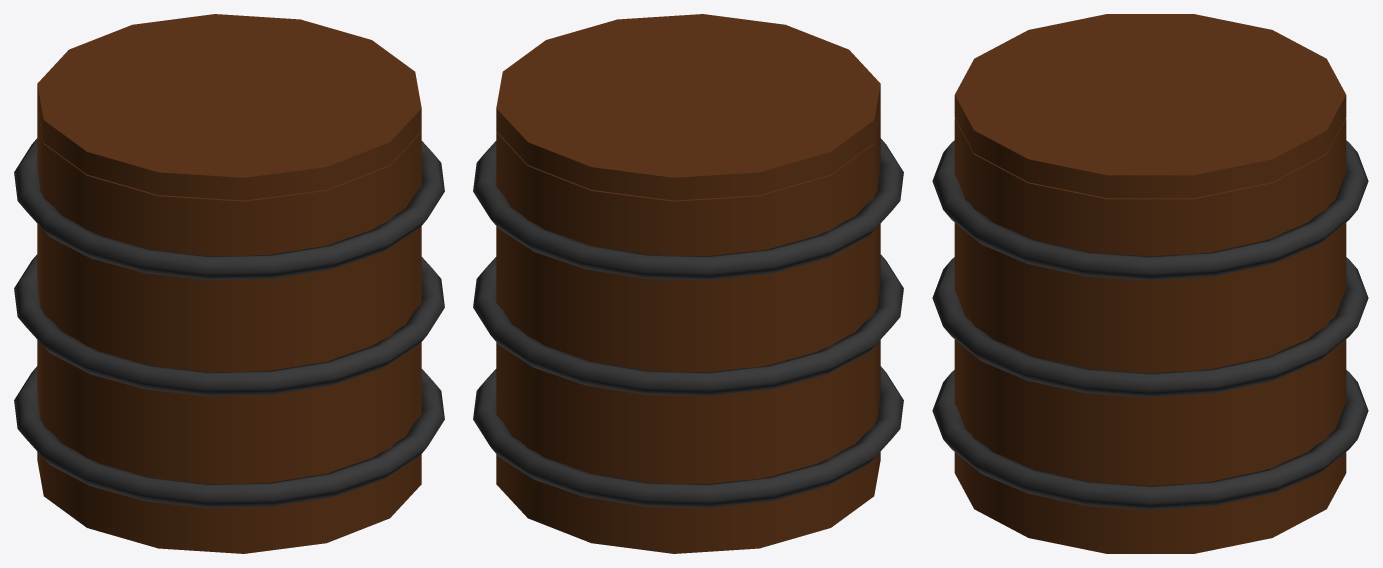
The model's file is arena-barrel.glb.
The picture shows the model from 3 angles, left to right: view 1: azimuth 30°, elevation 25°; view 2: azimuth 150°, elevation 25°; view 3: azimuth 270°, elevation 25°; orthographic projection.
Size of the model in its own units: 1.11 by 1.07 by 1.11.
